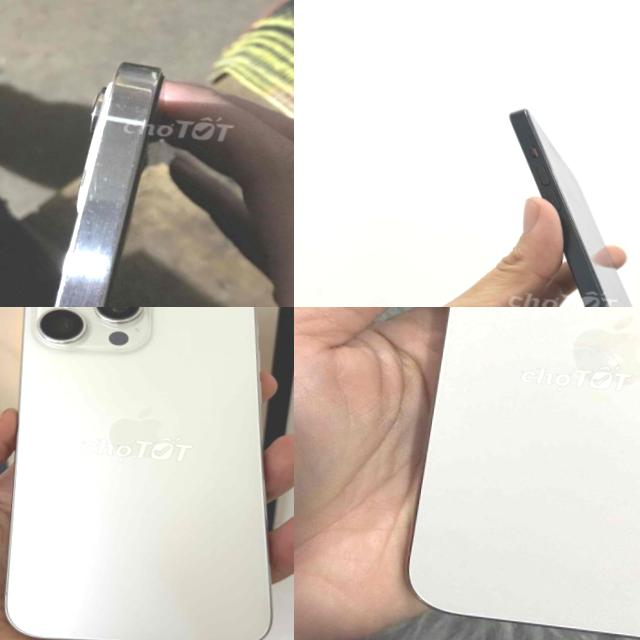gen_12_13: (0, 19, 213, 307)
gen_15: (0, 307, 294, 640), (471, 95, 640, 307)
gen_16: (408, 307, 640, 638)
scratch: (27, 307, 155, 354)
